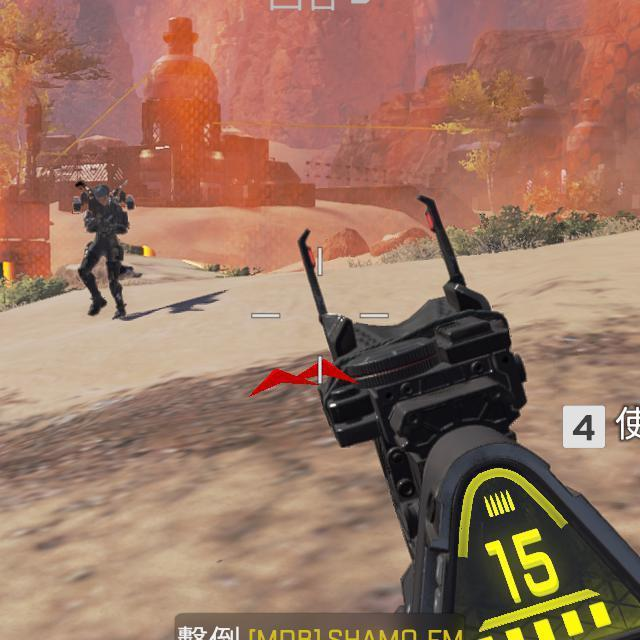avatar: (70, 178, 136, 320)
